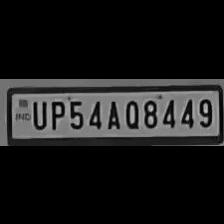4: (85, 96, 103, 128), (177, 94, 195, 126), (160, 95, 176, 127)
5: (65, 96, 85, 128)
8: (140, 95, 158, 127)
9: (194, 94, 214, 126)
A: (104, 96, 120, 128)
P: (46, 97, 64, 129)
Q: (122, 96, 140, 128)
U: (29, 97, 47, 128)
